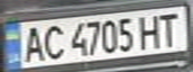0: (100, 16, 121, 53)
4: (66, 19, 87, 56)
5: (115, 15, 139, 52)
7: (84, 18, 103, 55)
A: (18, 24, 48, 63)
C: (39, 21, 69, 61)
H: (136, 11, 166, 50)
T: (154, 9, 187, 47)
